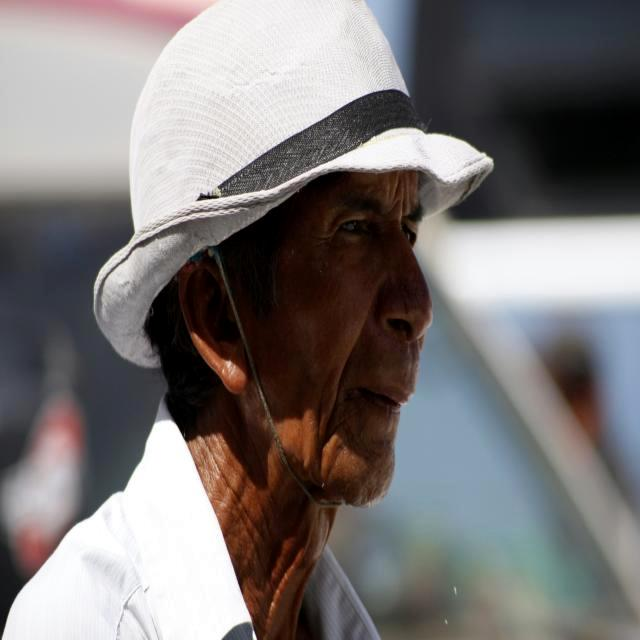no_hard_hat: (94, 0, 493, 368)
person: (0, 170, 435, 640)
